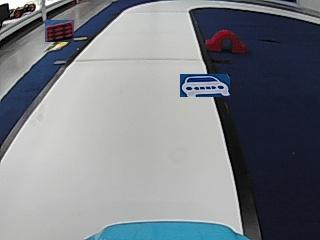bridge: (205, 27, 245, 53)
